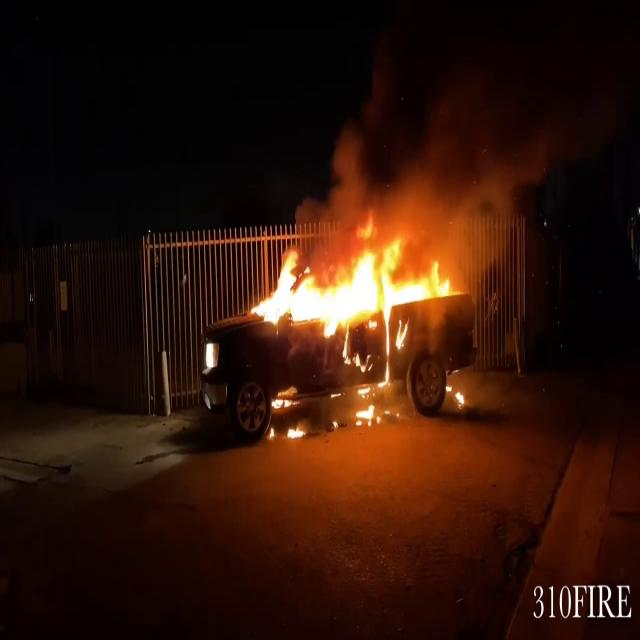Fire: (252, 222, 456, 345)
Smoke: (329, 31, 525, 256)
